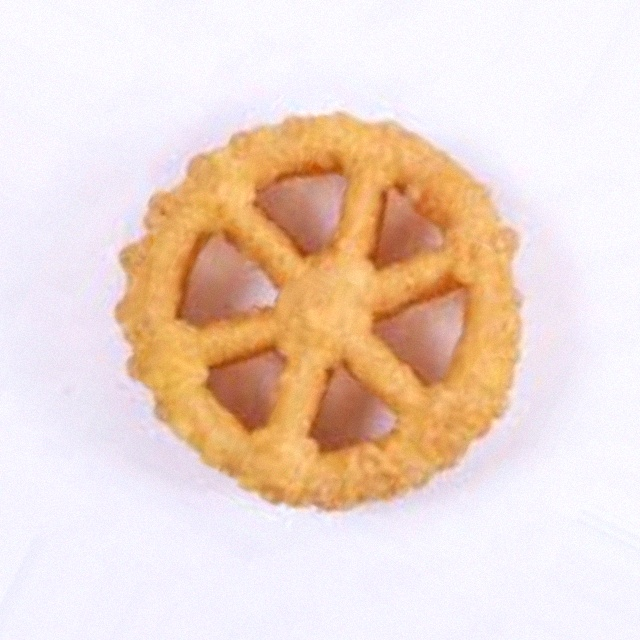Kokis: (114, 75, 526, 565)
